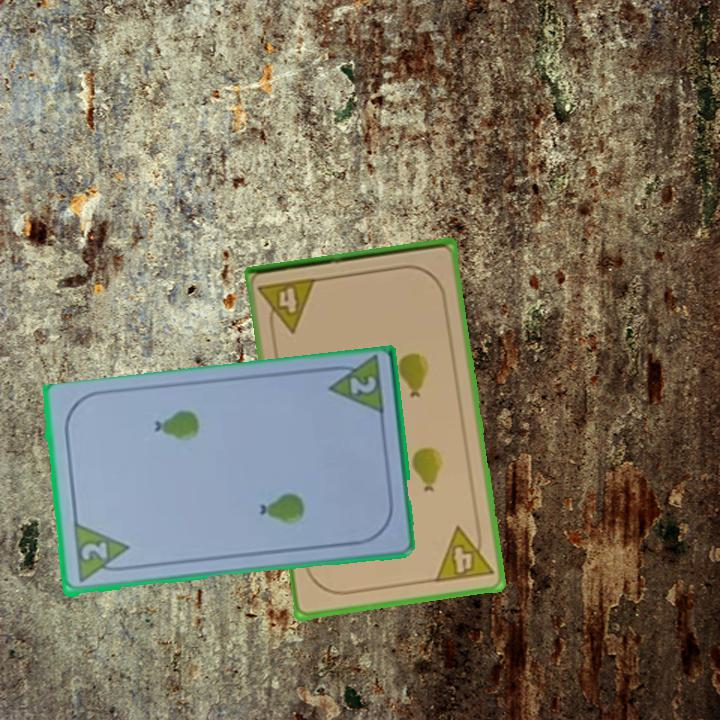2p: (322, 355, 387, 420), (77, 538, 110, 564)
4p: (431, 520, 496, 586), (255, 274, 320, 338)
